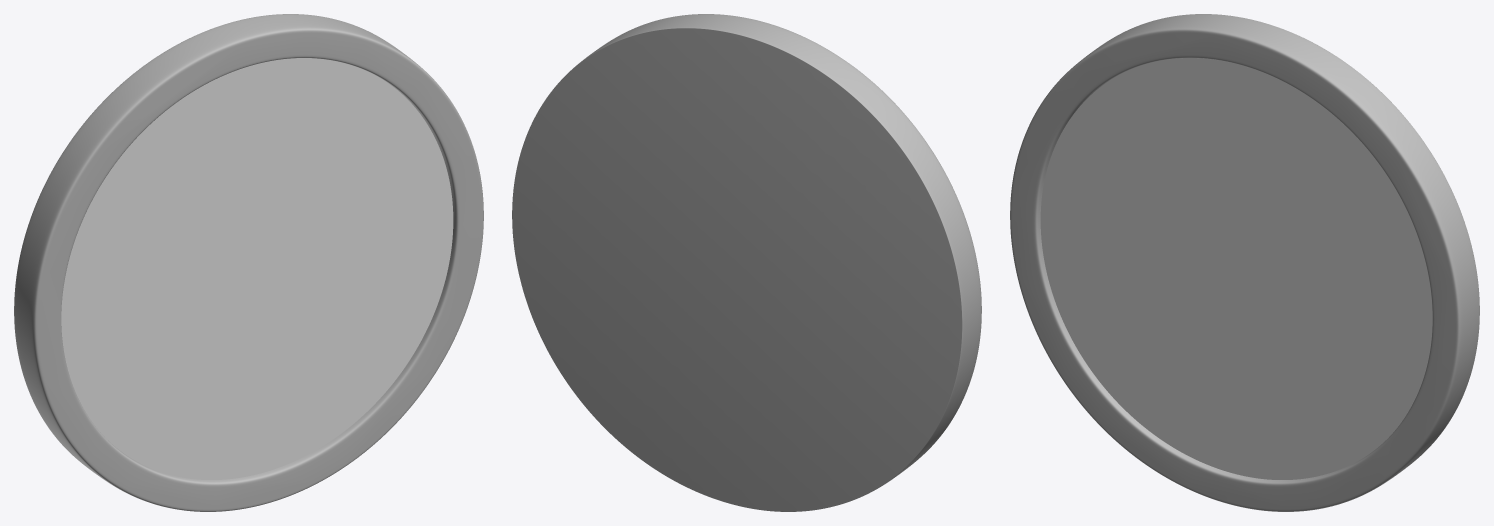
Rendered from clock.fbx.
3 renders of one model, left to right at view 1: azimuth 30°, elevation 25°; view 2: azimuth 150°, elevation 25°; view 3: azimuth 330°, elevation 25°, orthographic.
Visible parts, largest first — view 1: glass, Cylinder.001; view 2: Cylinder.001; view 3: glass, Cylinder.001.
Part boxes in pixels (left/top/right/bottom): glass: left=61, top=58, right=453, bottom=479; Cylinder.001: left=14, top=14, right=483, bottom=511; Cylinder.001: left=512, top=14, right=981, bottom=511; glass: left=1040, top=58, right=1432, bottom=479; Cylinder.001: left=1010, top=14, right=1479, bottom=511.
Size of the model in its own units: 643 by 643 by 51.23.
